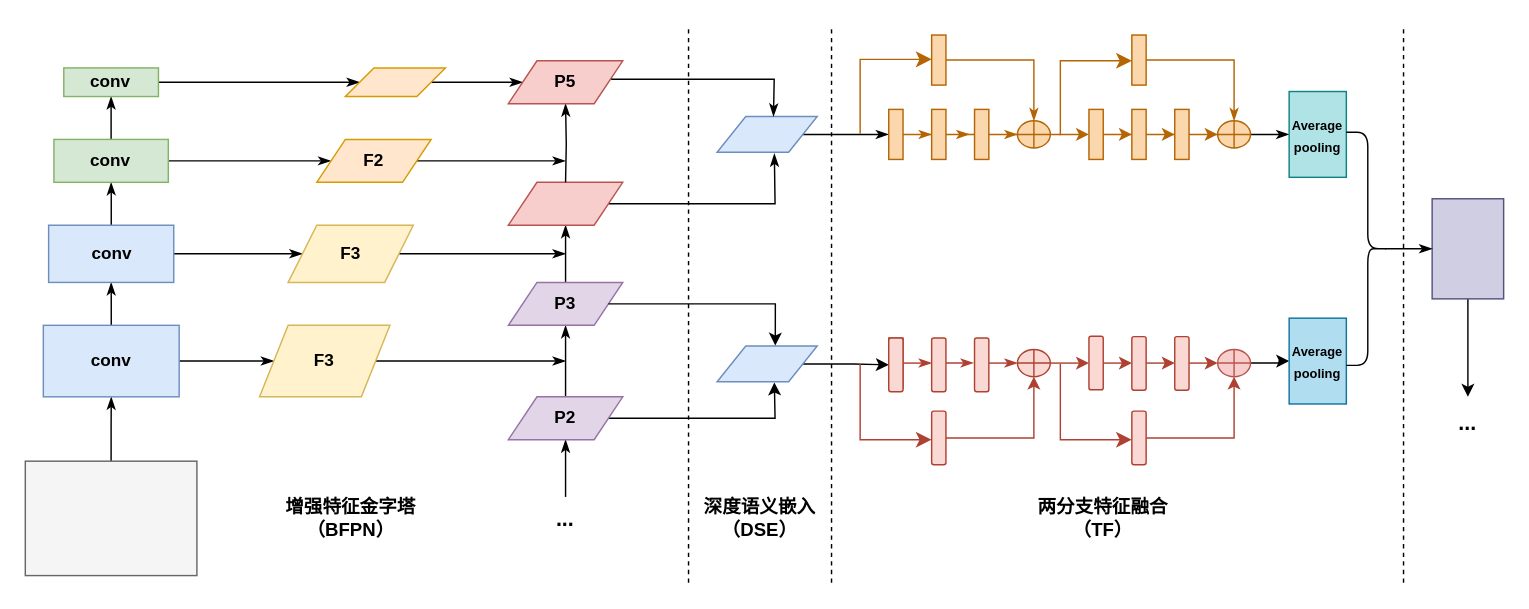
This 1529x609 diagram has some shape labels left out. The shapes that lost their labels are listed below. From the top down, each one's centre as x and y in pixels, then its label:
At (x=394, y=81): "F1".
At (x=766, y=133): "D4".
At (x=565, y=203): "P4".
At (x=1467, y=248): "Fully connected layer".
At (x=766, y=363): "D2".
At (x=110, y=518): "photo".
